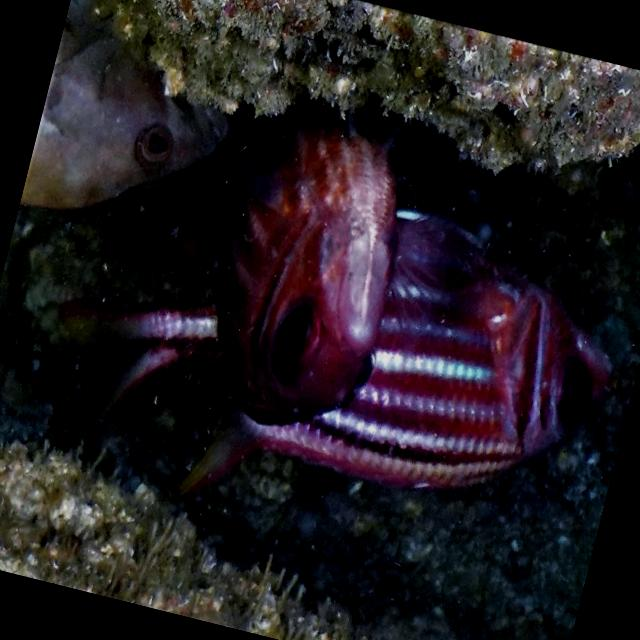Asker Baligi: (144, 59, 462, 475)
